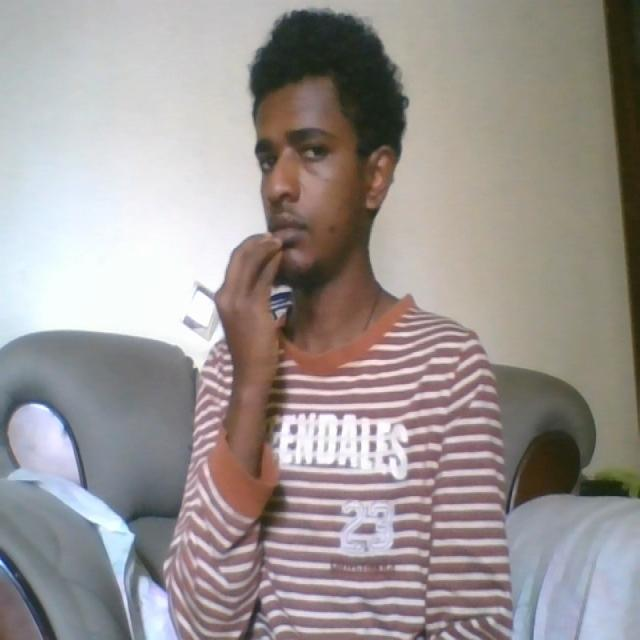meblat: (210, 216, 307, 390)
